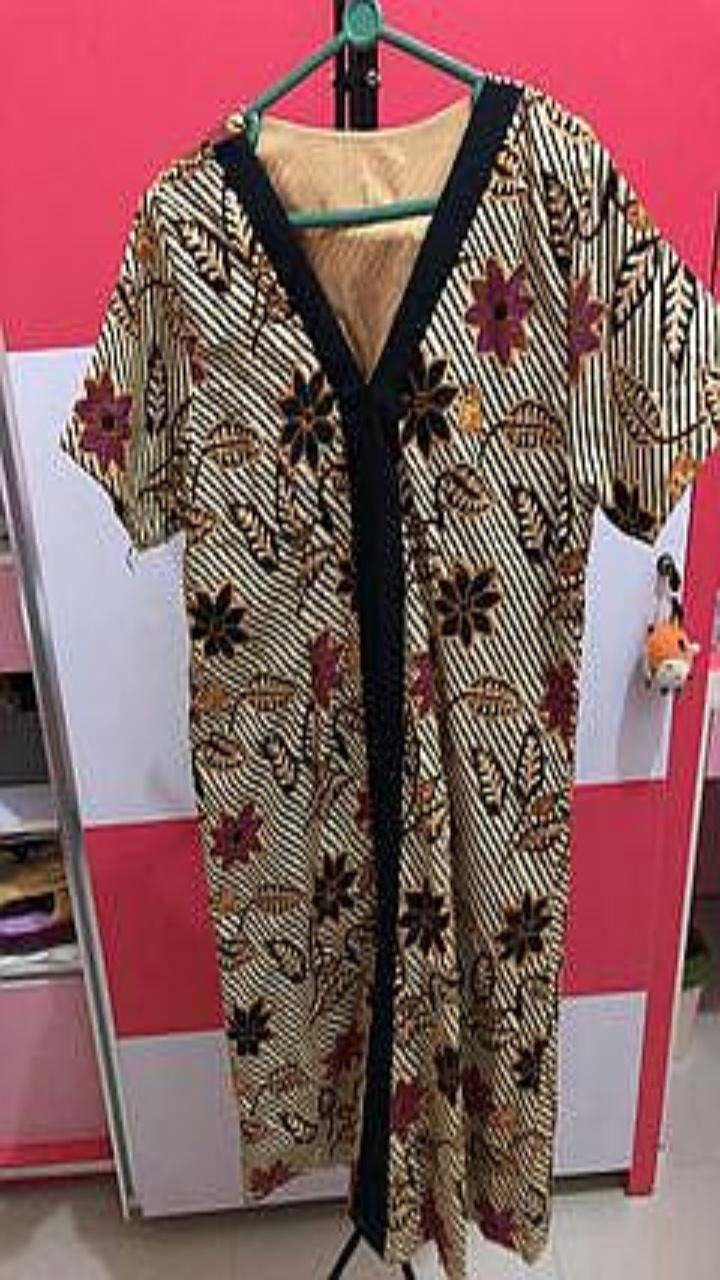Dresses: (62, 75, 719, 1279)
